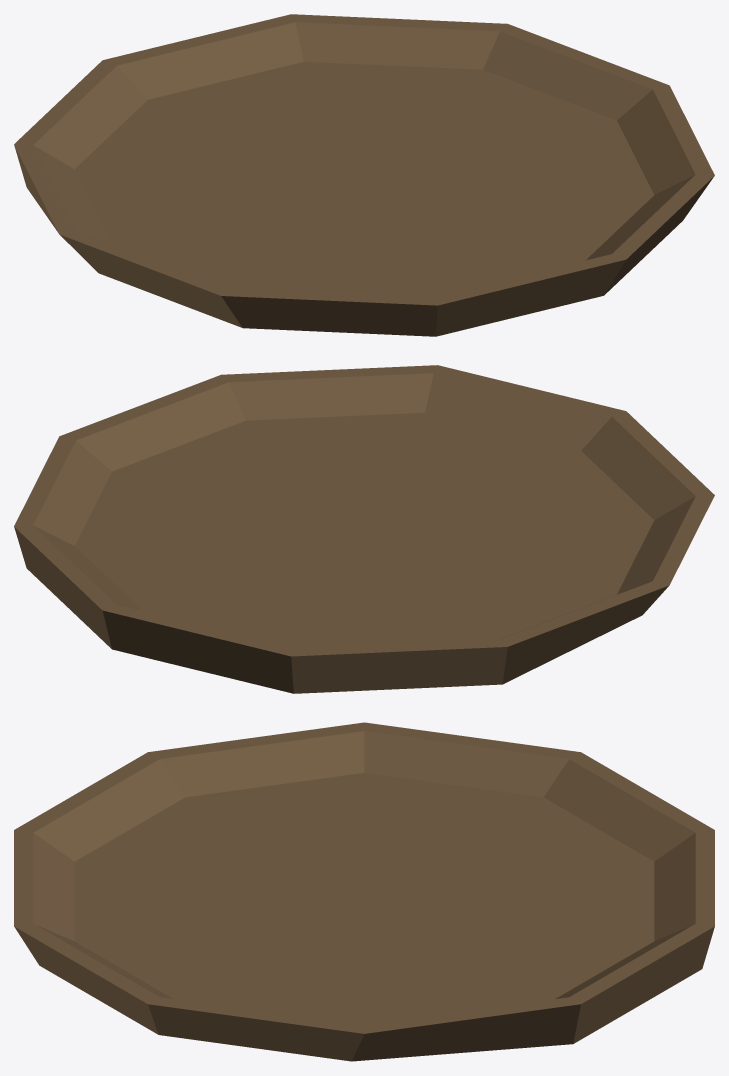
The model's file is Plate_1.fbx.
3 views of the same model, one above another, from view 1: azimuth 30°, elevation 25°; view 2: azimuth 150°, elevation 25°; view 3: azimuth 270°, elevation 25° (orthographic). The views are drawn at different scales.
Visible parts, largest first — view 1: pCylinder260; view 2: pCylinder260; view 3: pCylinder260.
Part boxes in pixels (x1,y1,x2,y2): pCylinder260: [14, 14, 714, 336]; pCylinder260: [14, 365, 714, 693]; pCylinder260: [14, 722, 714, 1061].
Size of the model in its own units: 30 by 2 by 28.53.
